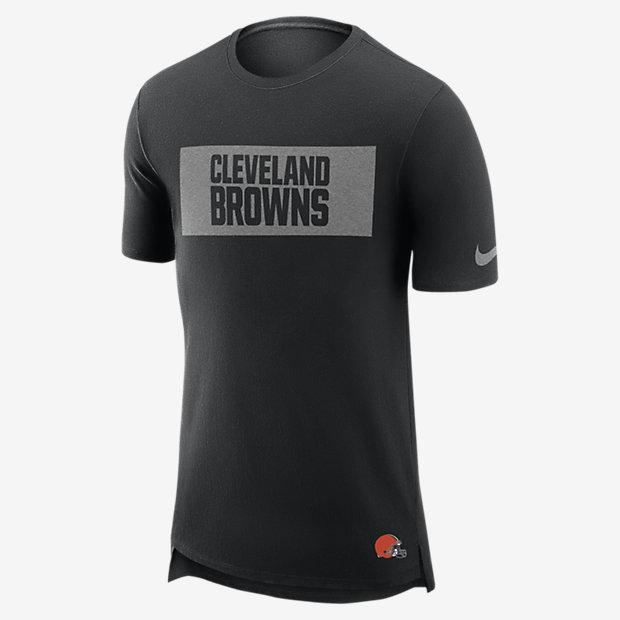teeshirt: (95, 14, 531, 620)
